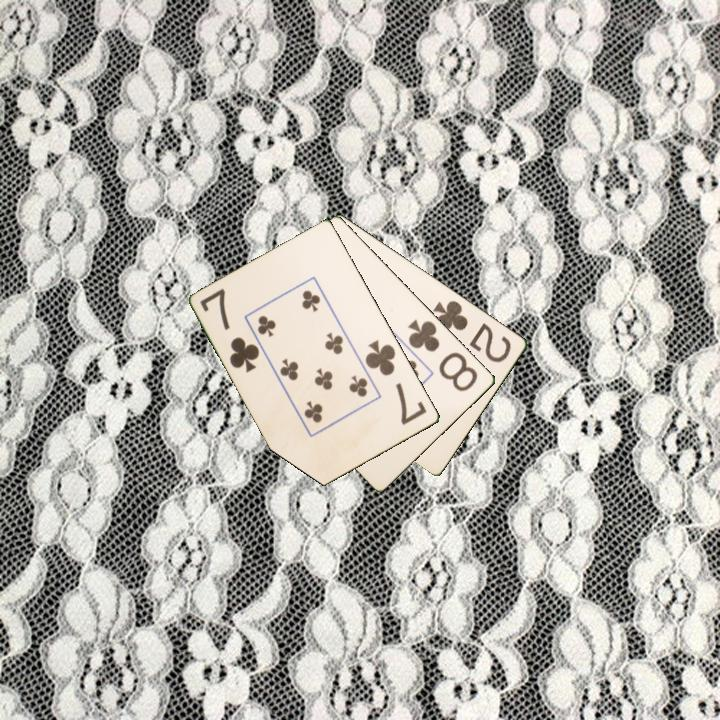2c: (430, 297, 515, 366)
7c: (362, 336, 430, 428), (196, 285, 263, 376)
8c: (404, 315, 481, 395)
